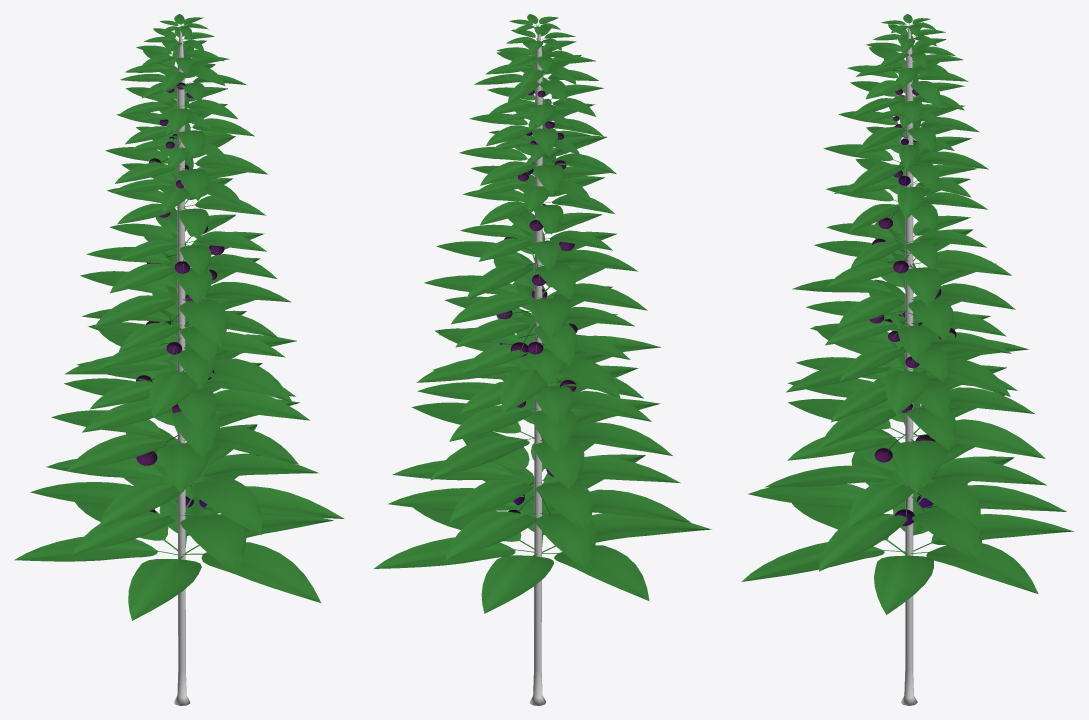
Rendered from Kali.glb.
3 views of the same model, side by side, from view 1: azimuth 30°, elevation 25°; view 2: azimuth 150°, elevation 25°; view 3: azimuth 270°, elevation 25° (orthographic).
Parts seen in each view (by area): view 1: kalinganleaf002, kalinganleaf001, kalinganleaf021, kalinganleaf004, kalinganleaf029, kalinganleaf006, kalinganleaf005, Circle140_2, Circle189_2, kalinganleaf117, Circle178_2, Circle156_2 (+13 smaller); view 2: kalinganleaf002, kalinganleaf001, kalinganleaf021, kalinganleaf004, kalinganleaf006, kalinganleaf005, kalinganleaf029, Circle140_2, Circle178_2, kalinganleaf117, Circle189_2, Circle156_2 (+12 smaller); view 3: kalinganleaf002, kalinganleaf001, kalinganleaf021, kalinganleaf004, kalinganleaf006, kalinganleaf005, kalinganleaf029, Circle140_2, Circle178_2, Circle189_2, kalinganleaf117, Circle183_2 (+12 smaller).
Boxes of the visible parts, bbox=[...] form: kalinganleaf002: bbox=[14, 496, 333, 620]; kalinganleaf001: bbox=[30, 453, 344, 573]; kalinganleaf021: bbox=[46, 424, 318, 535]; kalinganleaf004: bbox=[51, 399, 299, 492]; kalinganleaf029: bbox=[64, 317, 296, 417]; kalinganleaf006: bbox=[80, 252, 291, 347]; kalinganleaf005: bbox=[64, 362, 309, 457]; Circle140_2: bbox=[86, 225, 276, 304]; Circle189_2: bbox=[88, 309, 285, 387]; kalinganleaf117: bbox=[109, 210, 266, 275]; Circle178_2: bbox=[82, 284, 277, 363]; Circle156_2: bbox=[105, 133, 268, 200]; kalinganleaf002: bbox=[374, 484, 711, 613]; kalinganleaf001: bbox=[388, 454, 690, 568]; kalinganleaf021: bbox=[392, 431, 680, 531]; kalinganleaf004: bbox=[411, 383, 672, 489]; kalinganleaf006: bbox=[424, 253, 647, 338]; kalinganleaf005: bbox=[417, 365, 651, 454]; kalinganleaf029: bbox=[416, 315, 660, 412]; Circle140_2: bbox=[436, 224, 637, 299]; Circle178_2: bbox=[444, 282, 634, 365]; kalinganleaf117: bbox=[460, 211, 612, 270]; Circle189_2: bbox=[439, 309, 630, 385]; Circle156_2: bbox=[459, 135, 616, 194]; kalinganleaf002: bbox=[741, 483, 1074, 614]; kalinganleaf001: bbox=[748, 452, 1066, 571]; kalinganleaf021: bbox=[765, 428, 1046, 529]; kalinganleaf004: bbox=[787, 379, 1045, 493]; kalinganleaf006: bbox=[792, 252, 1015, 340]; kalinganleaf005: bbox=[787, 364, 1034, 449]; kalinganleaf029: bbox=[786, 319, 1029, 415]; Circle140_2: bbox=[814, 221, 1011, 306]; Circle178_2: bbox=[806, 279, 1005, 362]; Circle189_2: bbox=[810, 312, 1011, 381]; kalinganleaf117: bbox=[826, 204, 986, 270]; Circle183_2: bbox=[796, 342, 1017, 422].
Size of the model in its own units: 0.3994 by 0.9212 by 0.4098.
